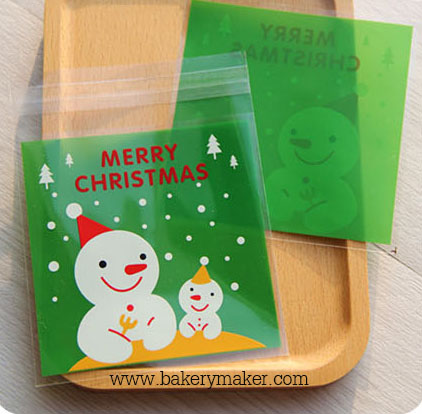Snack: (7, 48, 295, 388)
